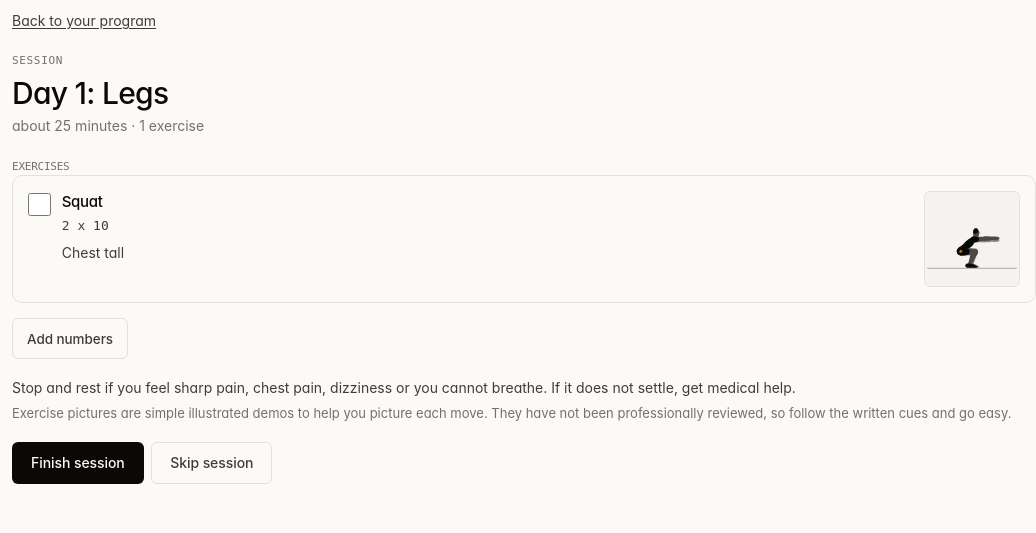
StarterSession › says CONTENT_ACCESS_FROZEN the same way and offers to renew
The width and height of the screenshot is (1036, 533).
Click the button "Finish session": point(78, 462) top-left (12, 442), bottom-right (144, 484)
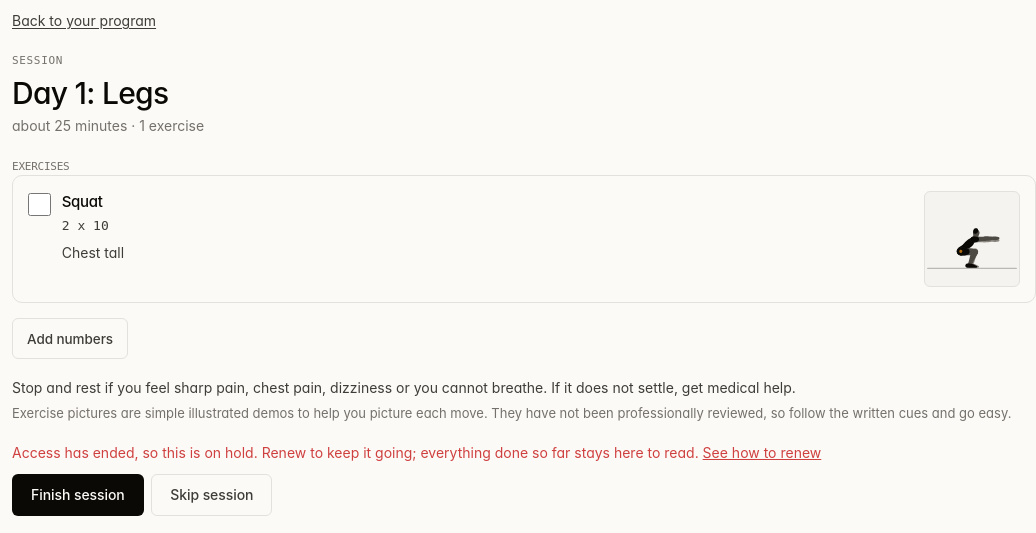
Check: the message does not show "API sentence", box top-left (12, 444), bottom-right (821, 460)
Check: the message shows "Access has ended", box top-left (12, 444), bottom-right (699, 460)
